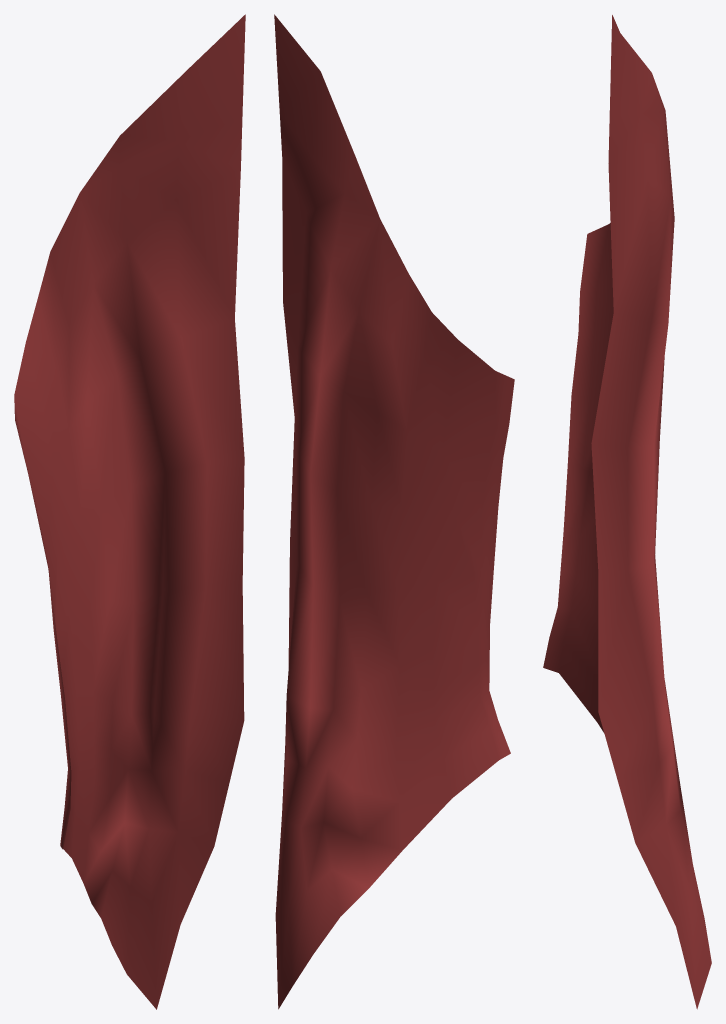
Rendered from middle-layer-of-thoracolumbar-fascia-r.glb.
3 views of the same model, side by side, from view 1: azimuth 30°, elevation 25°; view 2: azimuth 150°, elevation 25°; view 3: azimuth 270°, elevation 25° (orthographic). The views are drawn at different scales.
Visible parts, largest first — view 1: Middle layer of thoracolumbar fascia.r; view 2: Middle layer of thoracolumbar fascia.r; view 3: Middle layer of thoracolumbar fascia.r.
Part boxes in pixels (x1,y1,x2,y2): Middle layer of thoracolumbar fascia.r: (14,14,245,1009); Middle layer of thoracolumbar fascia.r: (274,14,514,1009); Middle layer of thoracolumbar fascia.r: (543,15,711,1009).
Size of the model in its own units: 0.0456 by 0.182 by 0.0273.
